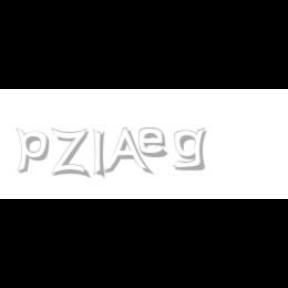A: (102, 128, 150, 176)
Z: (52, 128, 88, 178)
e: (138, 128, 171, 158)
g: (174, 128, 210, 171)
l: (93, 128, 109, 180)
p: (16, 128, 52, 174)
